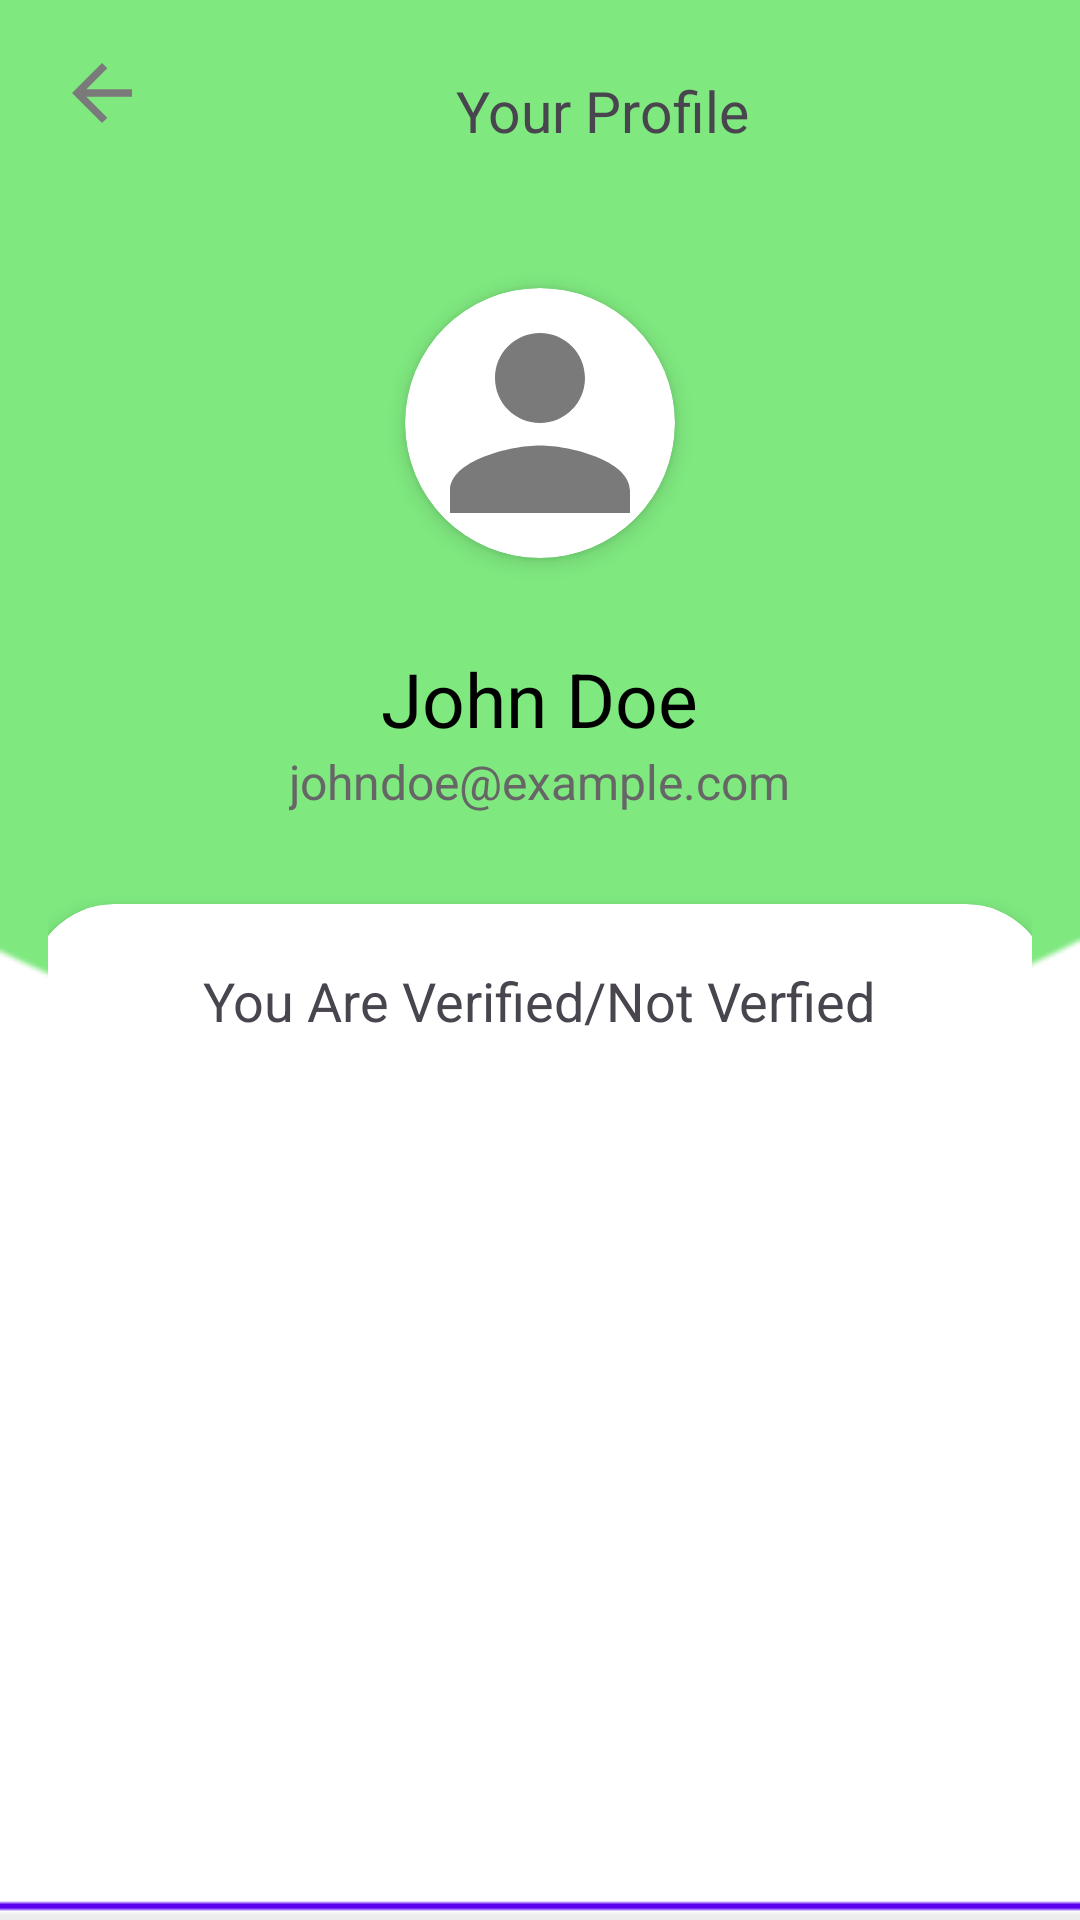

Where to tap for icons on this 1080x1920 app screen, as [x,y]:
arrow back: [102,93]
person: [540,423]
